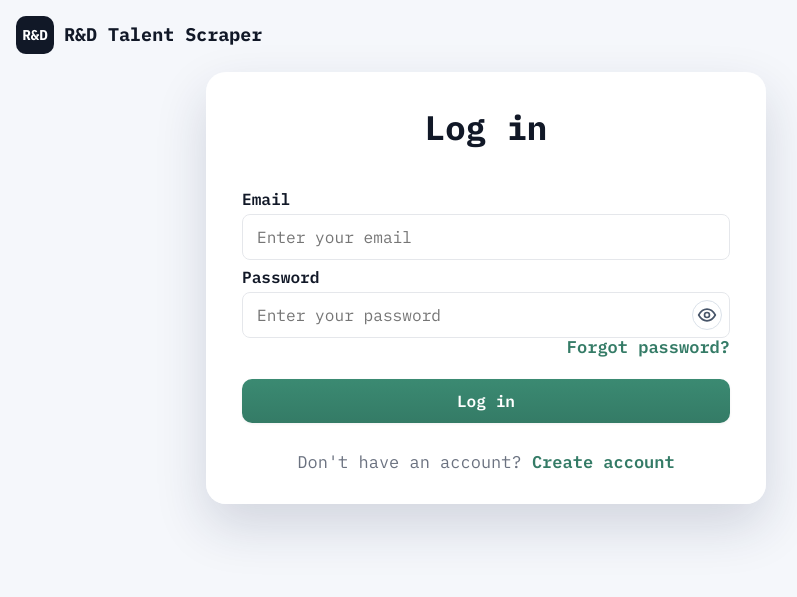
Test case: LoginPage › shows validation message when login fails
The image size is (797, 597).
Type "x@y.z" into the field labelled "Email" at (486, 237), box [242, 214, 730, 260]
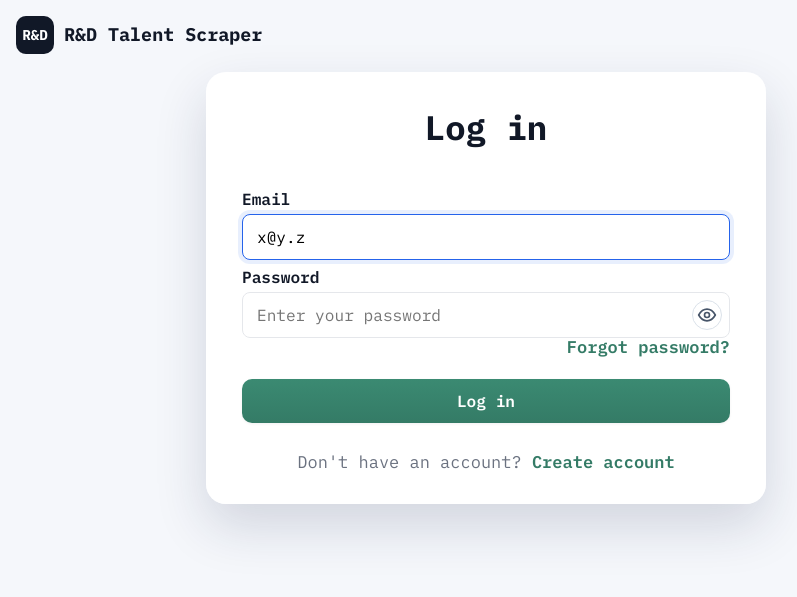
Type "wrong" into the password field labelled "Password" at (486, 315), box [242, 292, 730, 338]
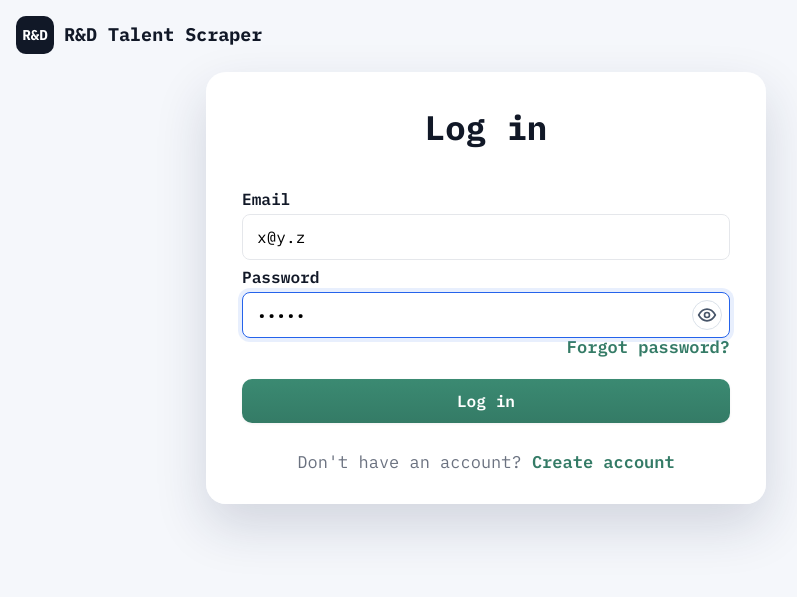
Click the button "Log in" at (486, 401), box [242, 379, 730, 423]
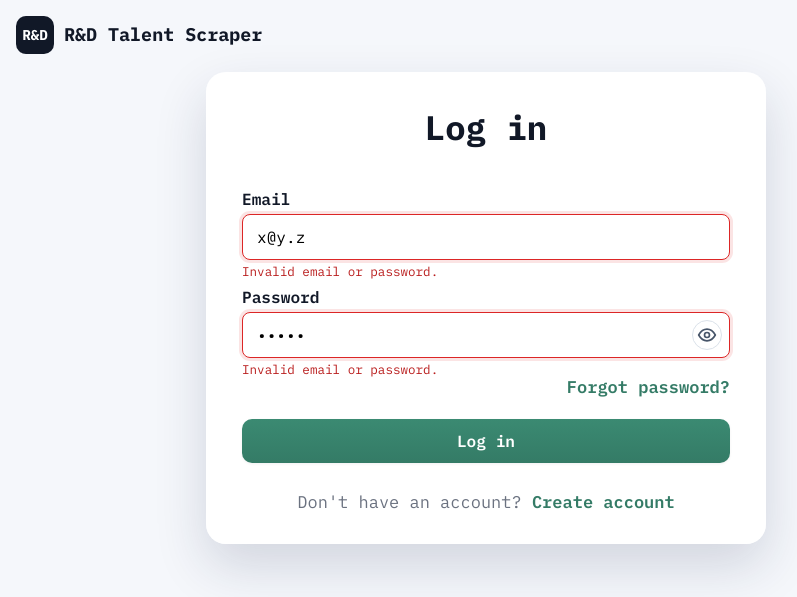
Expected: the 1st text "Invalid email or password." is shown, [242, 263, 438, 279]
